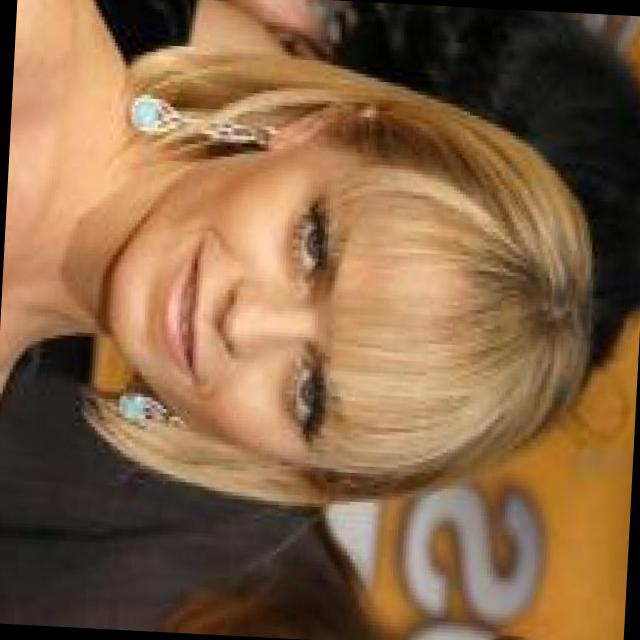bareface: (103, 140, 413, 470)
